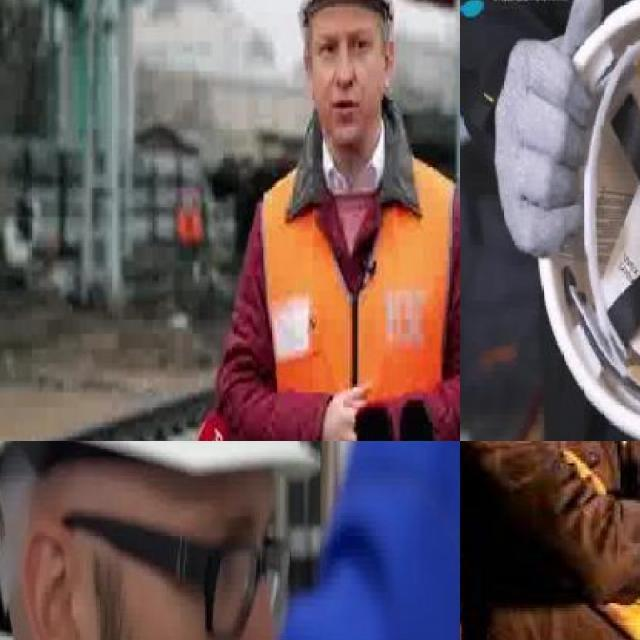apron: (494, 0, 605, 263)
